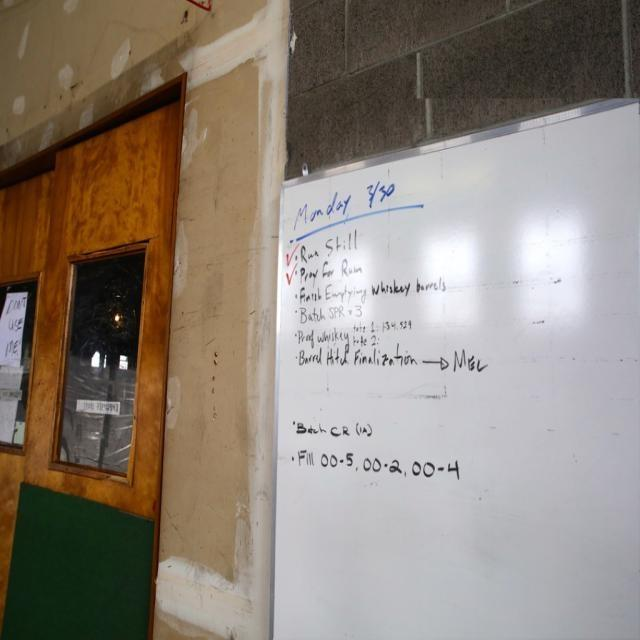Whiteboard: (269, 98, 639, 639)
